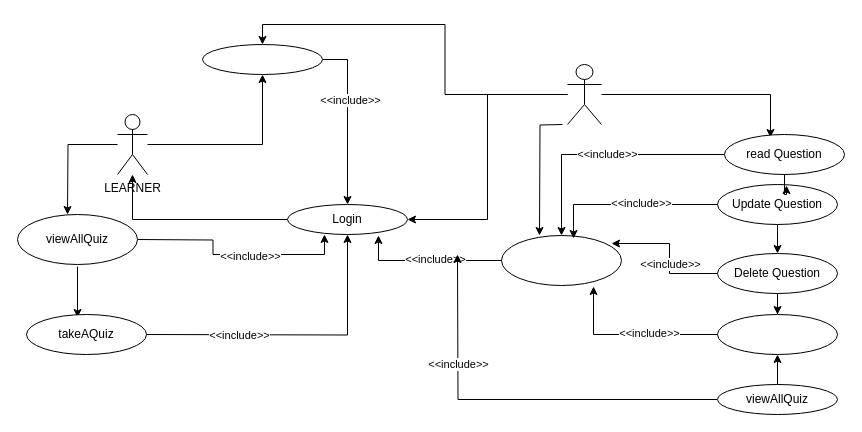
The diagram is 862 pixels wide and 432 high, and some of its shapes have lost their labels. Here are the shapes that lost their labels. From the top down, the centre of each, then its label:
(x=262, y=59): Register
(x=584, y=94): TEACHER
(x=561, y=260): Add Quiz
(x=777, y=334): Delete Quiz
